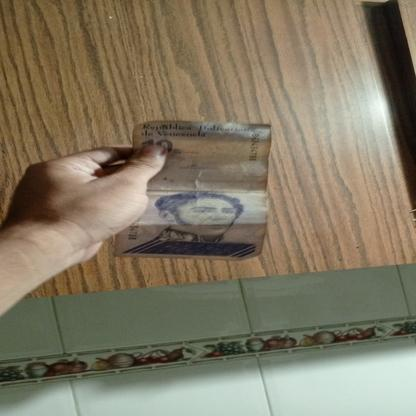ten-front-vef: (115, 121, 273, 261)
